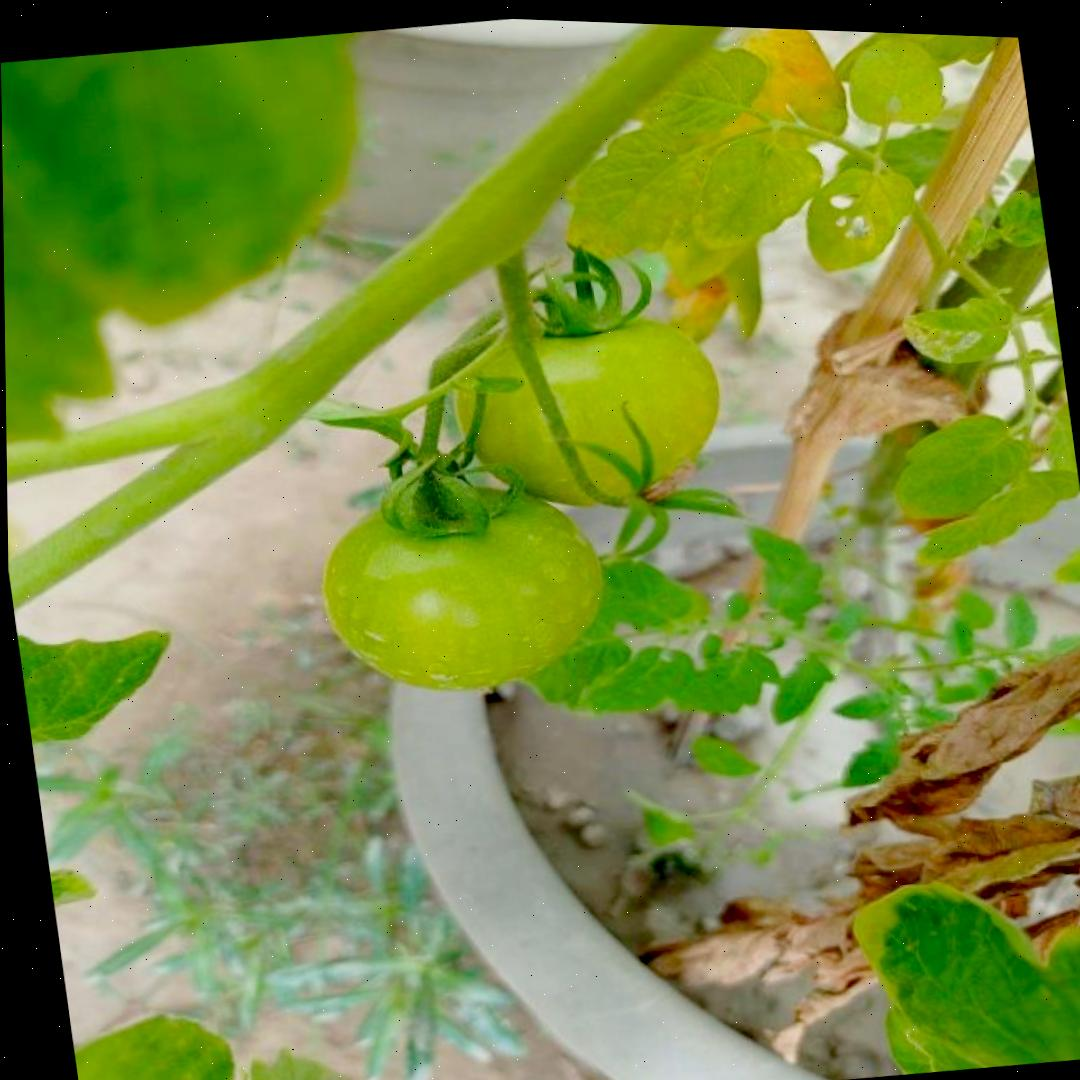mentah: (304, 460, 616, 714), (438, 286, 737, 529)
